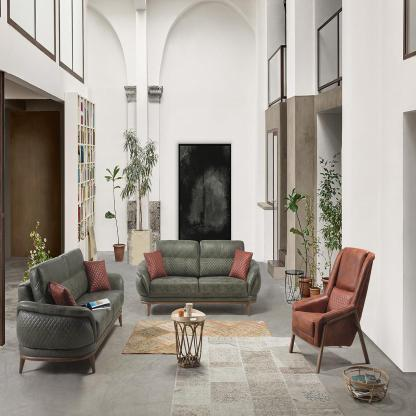chair: (287, 241, 376, 379)
door: (12, 114, 57, 259)
sofa: (11, 247, 124, 379), (130, 232, 264, 314)
table: (172, 307, 211, 369)
